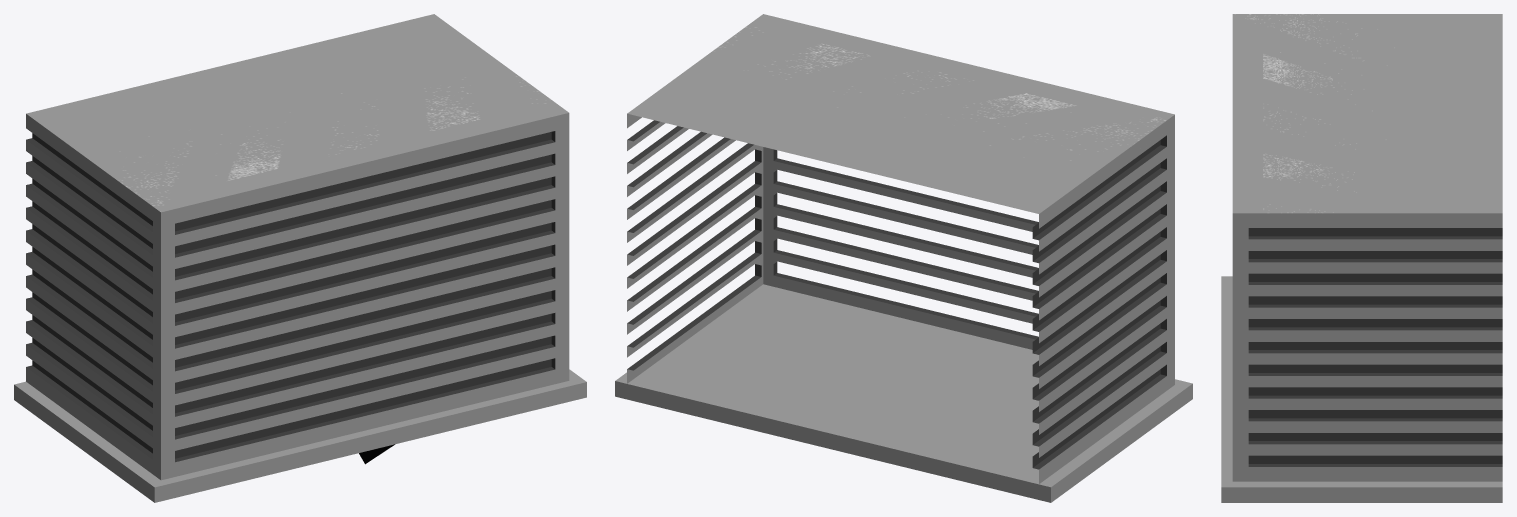
Rendered from object_B2_Air.glb.
3 renders of one model, left to right at view 1: azimuth 30°, elevation 25°; view 2: azimuth 150°, elevation 25°; view 3: azimuth 270°, elevation 25°, orthographic.
Visible parts, largest first — view 1: B2 Air; view 2: B2 Air; view 3: B2 Air.
Boxes of the visible parts, bbox=[...] form: B2 Air: bbox=[14, 14, 586, 502]; B2 Air: bbox=[615, 14, 1192, 502]; B2 Air: bbox=[1221, 14, 1502, 502].
Bounding box in the file's own units: 0.9019 × 0.6983 × 0.5083.
2 materials, 1 textured.
